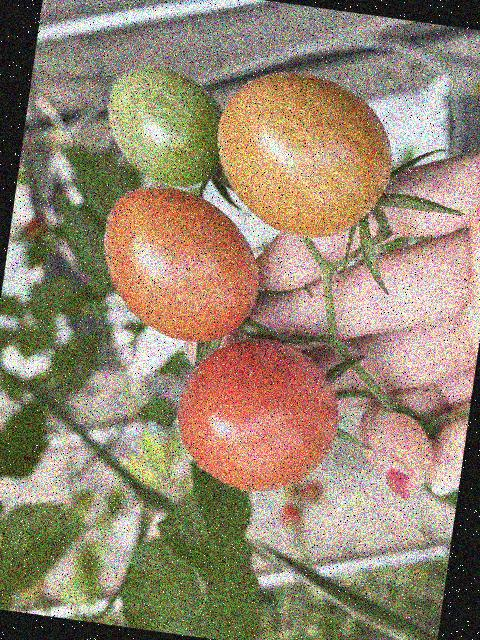l_fully_ripened: (169, 327, 349, 503), (91, 179, 271, 350)
l_green: (97, 62, 230, 193)
l_half_ripened: (206, 61, 403, 249)
